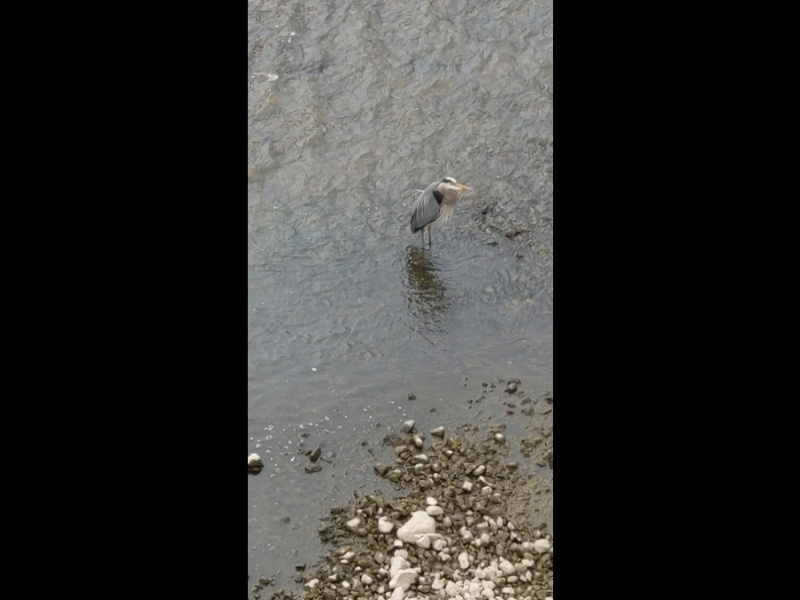heron: (409, 173, 473, 247)
